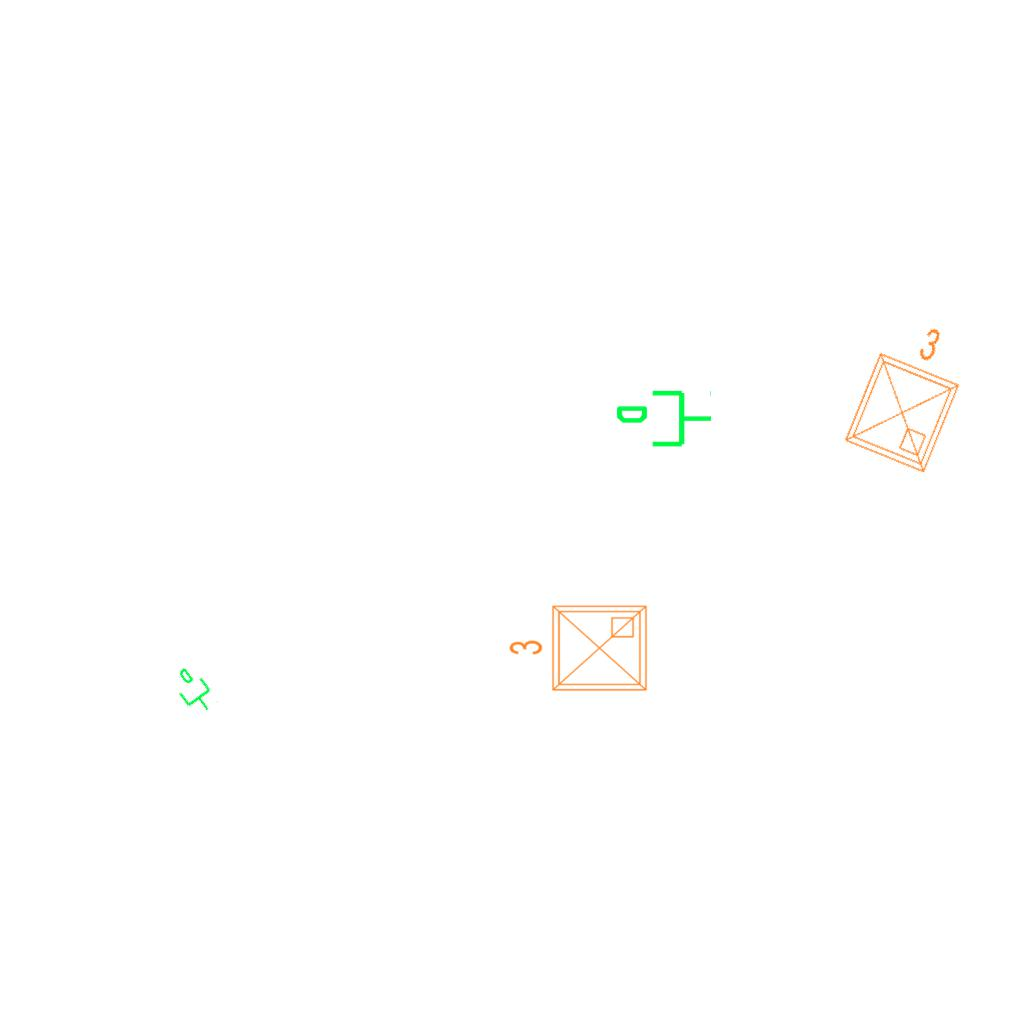Datenanschluss_einfach: (614, 386, 714, 455), (164, 660, 222, 722)
Einbaudownlights_LED_Konferenzraeume: (831, 303, 985, 483), (504, 598, 654, 702)
